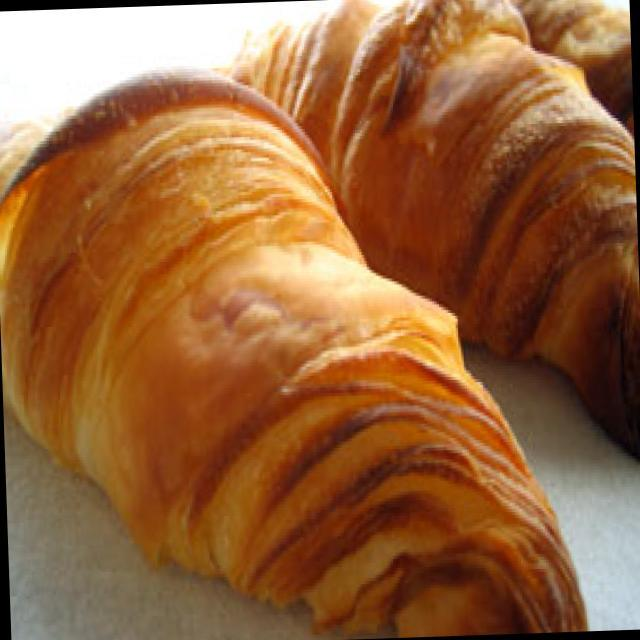Croissant: (0, 23, 612, 640)
